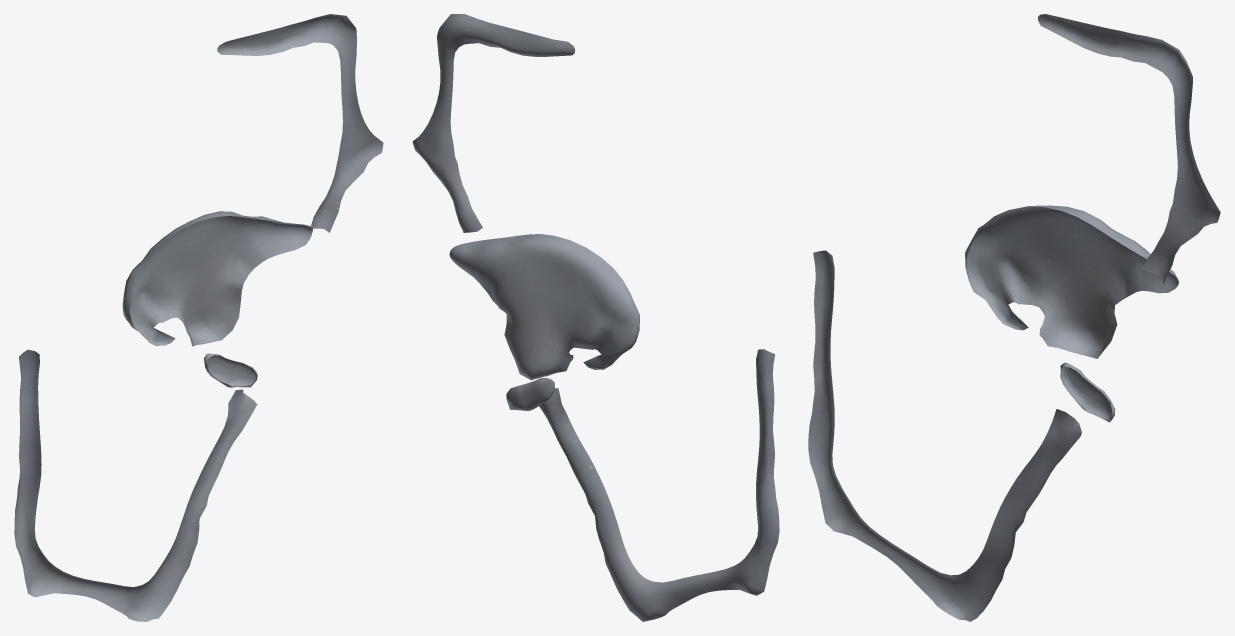
The model's file is pref_sm_beach_winter_center_snow04_lv3.fbx.
3 views of the same model, side by side, from view 1: azimuth 30°, elevation 25°; view 2: azimuth 150°, elevation 25°; view 3: azimuth 330°, elevation 25° (orthographic). The views are drawn at different scales.
Visible parts, largest first — view 1: pref_sm_beach_winter_center_snow04_lv3; view 2: pref_sm_beach_winter_center_snow04_lv3; view 3: pref_sm_beach_winter_center_snow04_lv3.
Part boxes in pixels (x1=…): pref_sm_beach_winter_center_snow04_lv3: x1=14, y1=14, x2=383, y2=621; pref_sm_beach_winter_center_snow04_lv3: x1=412, y1=14, x2=779, y2=621; pref_sm_beach_winter_center_snow04_lv3: x1=808, y1=14, x2=1220, y2=621.
Size of the model in its own units: 10.98 by 16.03 by 1.89.
